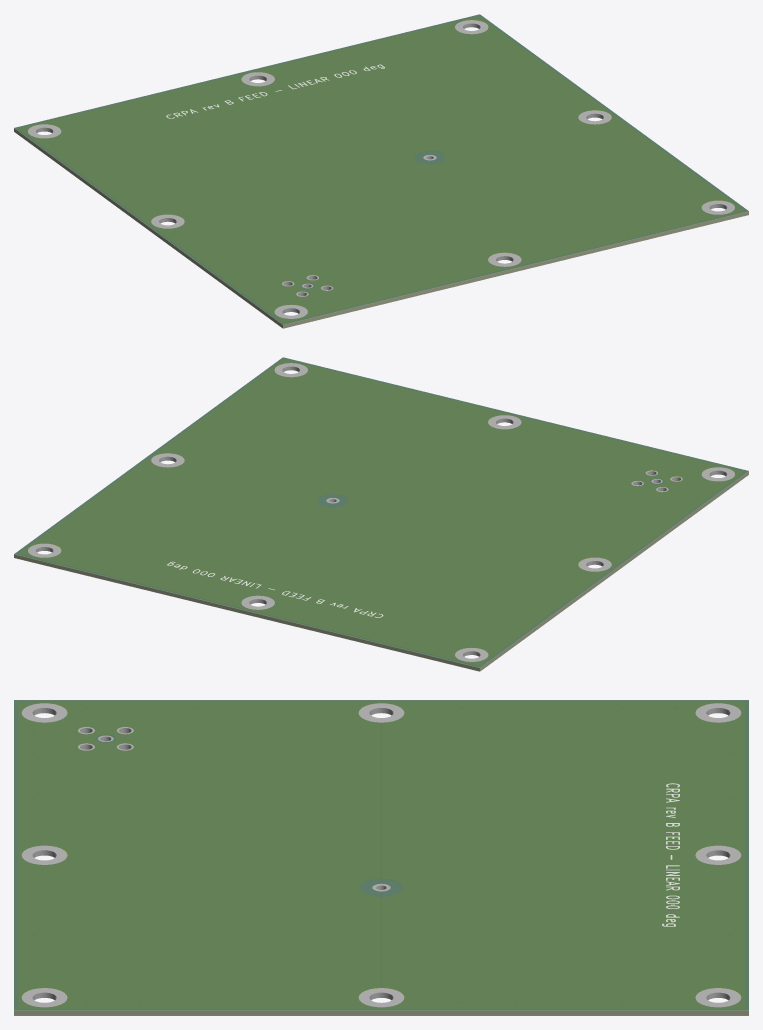
File: feed_linear_000.glb
3 views of the same model, one above another, from view 1: azimuth 30°, elevation 25°; view 2: azimuth 150°, elevation 25°; view 3: azimuth 270°, elevation 25° (orthographic). The views are drawn at different scales.
Parts seen in each view (by area): view 1: =>[0:1:1:9], =>[0:1:1:4], =>[0:1:1:11], =>[0:1:1:5], =>[0:1:1:10]; view 2: =>[0:1:1:9], =>[0:1:1:4], =>[0:1:1:11], =>[0:1:1:5], =>[0:1:1:10]; view 3: =>[0:1:1:9], =>[0:1:1:4], =>[0:1:1:11], =>[0:1:1:5], =>[0:1:1:7], =>[0:1:1:10].
Boxes of the visible parts, <box> form: =>[0:1:1:9]: <box>14,14,748,324</box>; =>[0:1:1:4]: <box>19,16,743,322</box>; =>[0:1:1:11]: <box>14,15,748,328</box>; =>[0:1:1:5]: <box>28,20,734,318</box>; =>[0:1:1:10]: <box>15,132,748,328</box>; =>[0:1:1:9]: <box>14,357,748,667</box>; =>[0:1:1:4]: <box>19,359,743,665</box>; =>[0:1:1:11]: <box>14,358,748,671</box>; =>[0:1:1:5]: <box>28,363,734,661</box>; =>[0:1:1:10]: <box>14,475,747,671</box>; =>[0:1:1:9]: <box>14,700,748,1010</box>; =>[0:1:1:4]: <box>18,702,744,1008</box>; =>[0:1:1:11]: <box>14,701,748,1015</box>; =>[0:1:1:5]: <box>21,703,741,1007</box>; =>[0:1:1:7]: <box>662,783,679,926</box>; =>[0:1:1:10]: <box>14,1015,748,1015</box>.
Size of the model in its own units: 0.096 by 0.00163 by 0.096.
